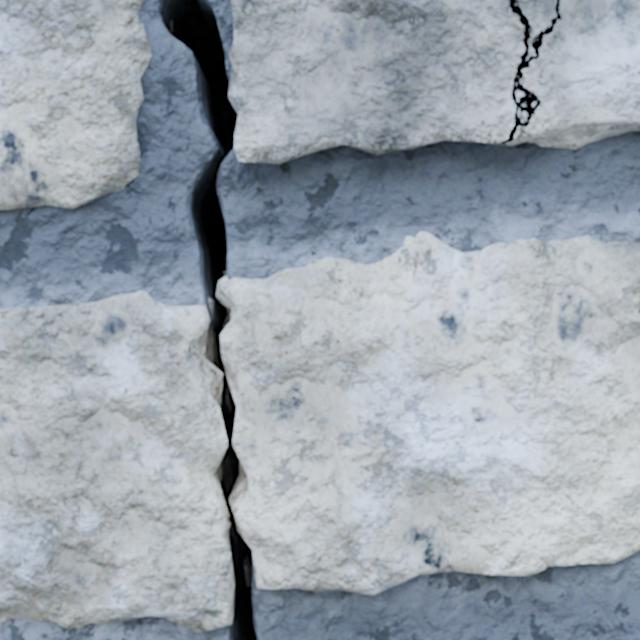broken_brick: (221, 232, 639, 594), (0, 290, 232, 632)
crack: (158, 0, 639, 639), (0, 0, 151, 209), (175, 297, 198, 315)
